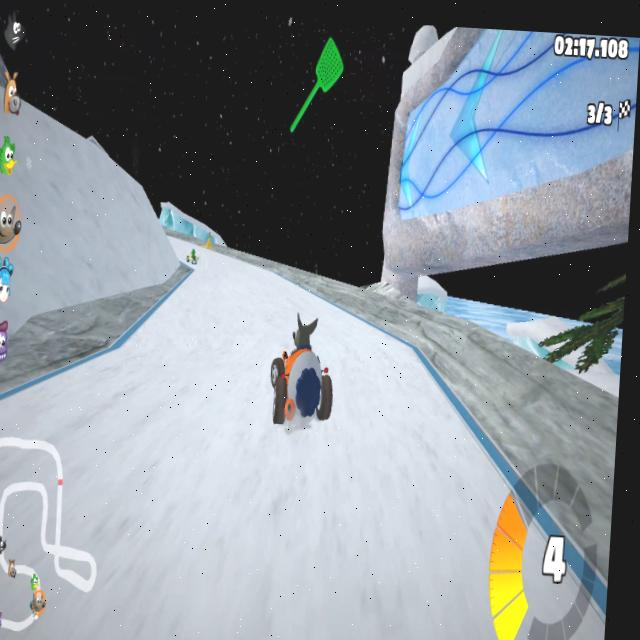enemy_kart: (182, 246, 202, 271)
obstacle: (198, 234, 216, 256)
player_kart: (260, 312, 338, 431)
track: (0, 410, 506, 640), (181, 272, 268, 426), (491, 550, 598, 640), (333, 329, 405, 437), (157, 291, 191, 427), (117, 329, 162, 422), (63, 359, 123, 417), (401, 377, 462, 433), (267, 275, 339, 315), (32, 379, 66, 415), (217, 254, 266, 278), (169, 231, 190, 255), (202, 253, 220, 277)
